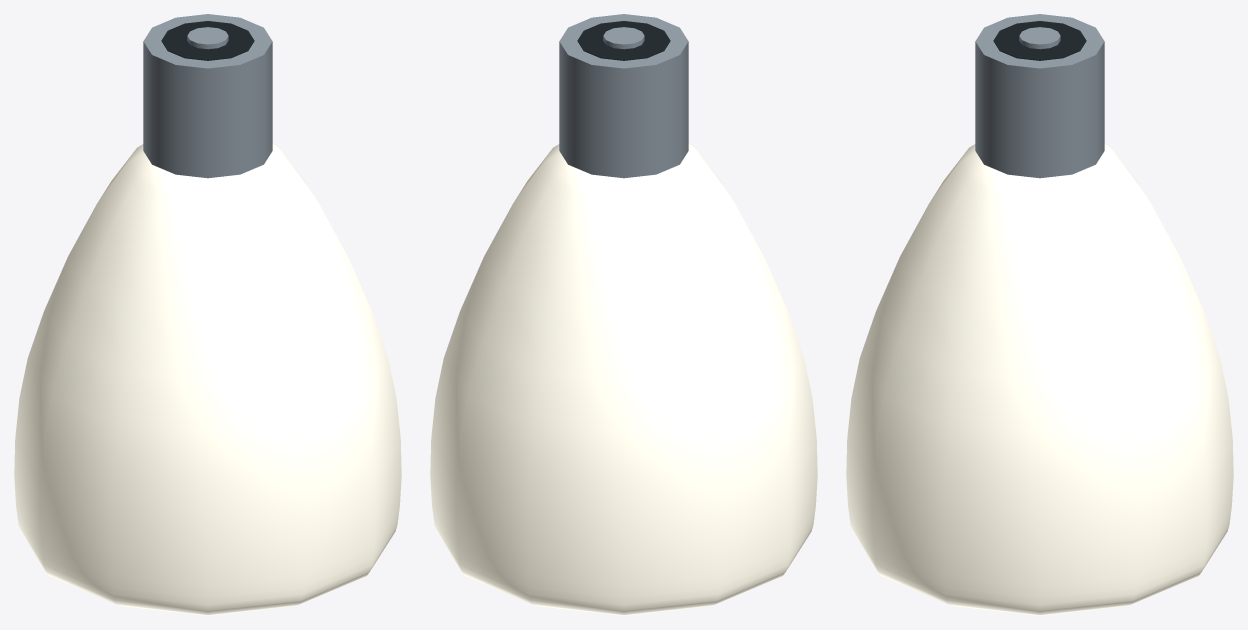
File: source.glb
3 views of the same model, side by side, from view 1: azimuth 30°, elevation 25°; view 2: azimuth 150°, elevation 25°; view 3: azimuth 270°, elevation 25° (orthographic).
Parts seen in each view (by area): view 1: Emitters, 机加工金属, 密封及绝缘件; view 2: Emitters, 机加工金属, 密封及绝缘件; view 3: Emitters, 机加工金属, 密封及绝缘件.
Boxes of the visible parts, x1=… form: Emitters: x1=14, y1=144, x2=401, y2=615; 机加工金属: x1=143, y1=14, x2=272, y2=178; 密封及绝缘件: x1=161, y1=21, x2=254, y2=60; Emitters: x1=430, y1=144, x2=817, y2=615; 机加工金属: x1=559, y1=14, x2=688, y2=178; 密封及绝缘件: x1=577, y1=21, x2=670, y2=60; Emitters: x1=846, y1=144, x2=1233, y2=615; 机加工金属: x1=975, y1=14, x2=1104, y2=178; 密封及绝缘件: x1=993, y1=21, x2=1086, y2=60.
Size of the model in its own units: 0.081 by 0.1179 by 0.081.
